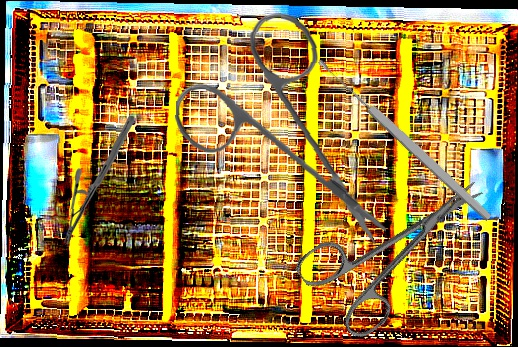Iris Scissors: (167, 6, 401, 246), (291, 149, 511, 347)
Needle Holder: (61, 116, 137, 244)
Surgical Spoon: (315, 55, 494, 224)
